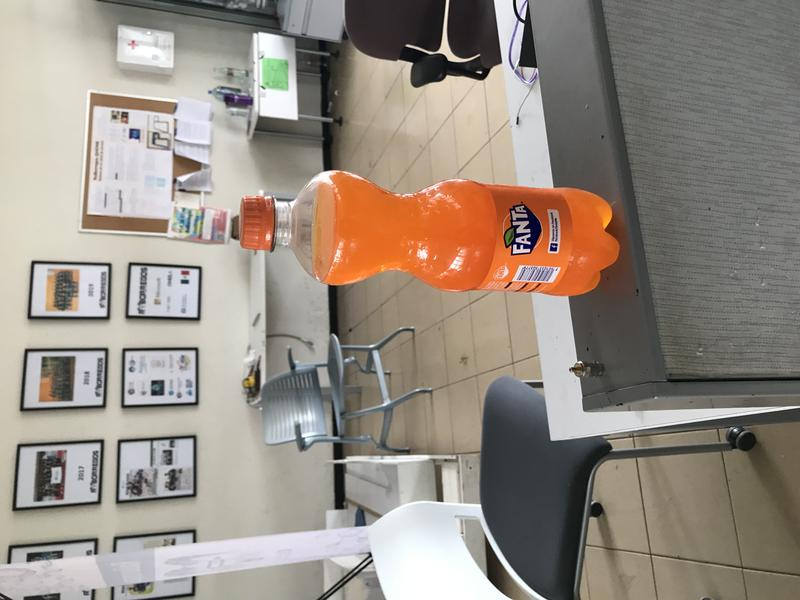fanta: (238, 169, 620, 298)
